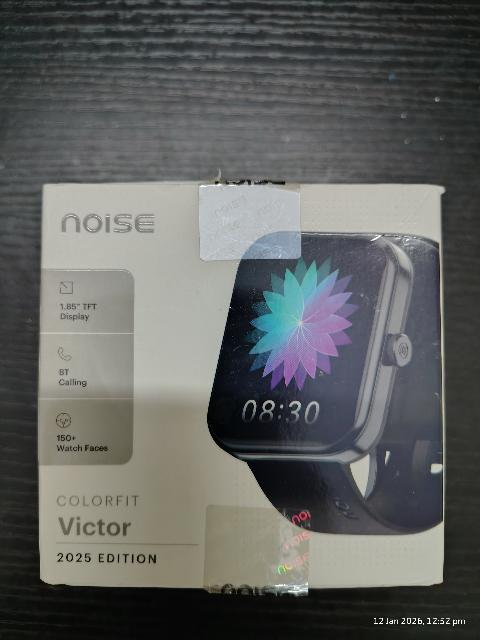noise victor smartwatch: (44, 185, 452, 591)
